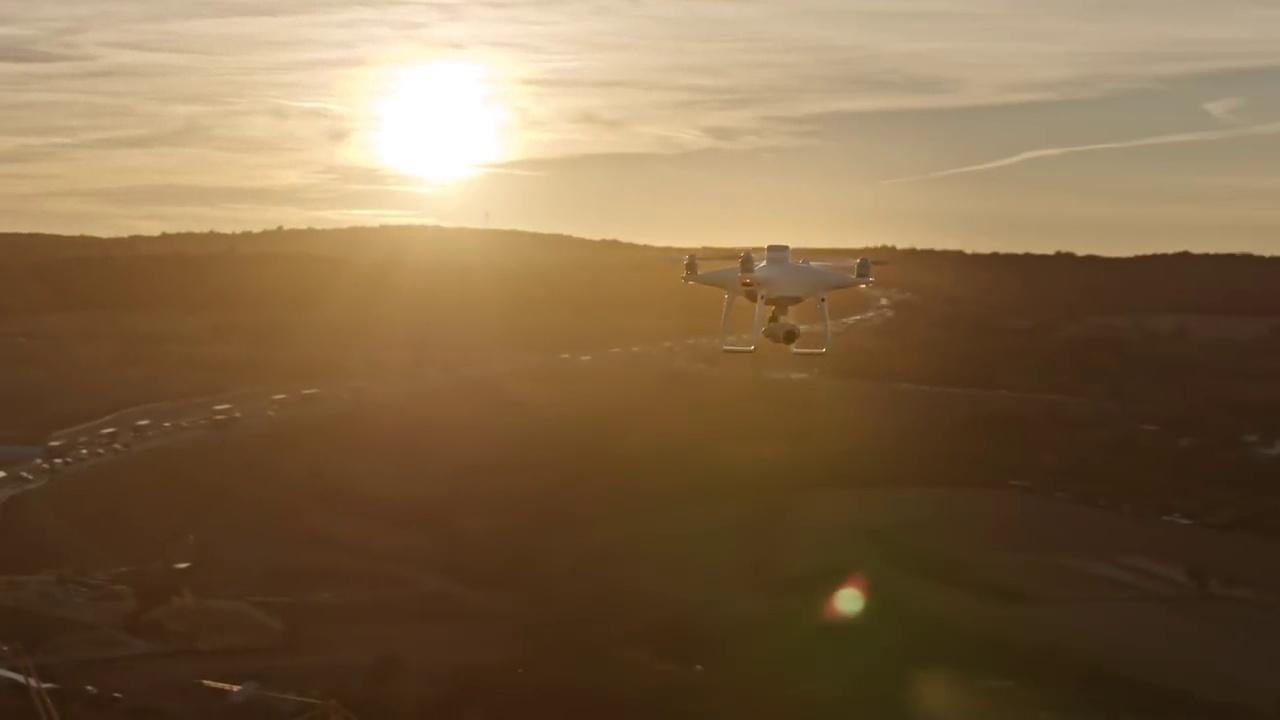drone: (659, 239, 900, 357)
